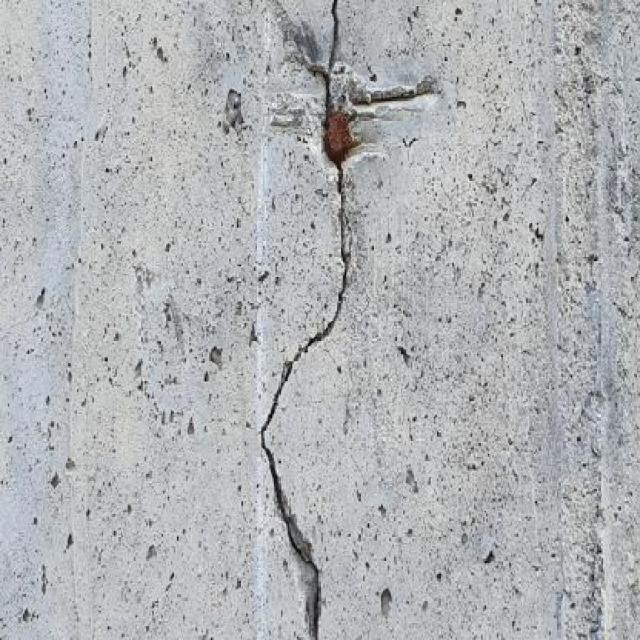GRIETA: (260, 0, 350, 639), (271, 1, 319, 62), (345, 77, 440, 105)
